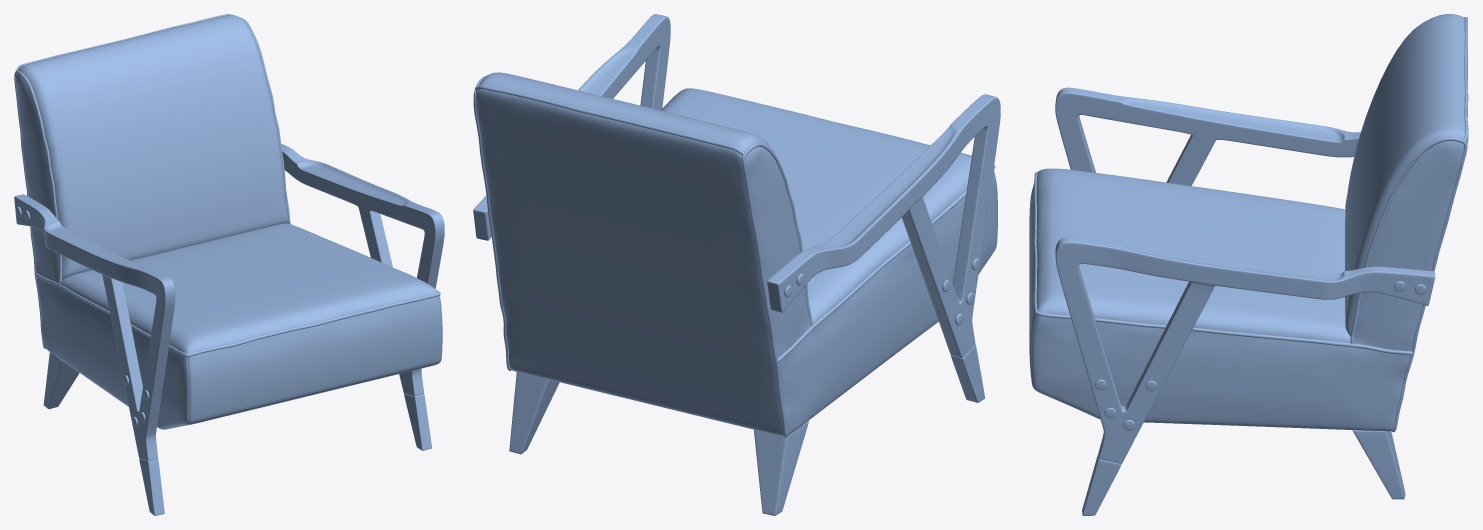
Rendered from The  Charles  Club  Chair.obj.
3 renders of one model, left to right at view 1: azimuth 30°, elevation 25°; view 2: azimuth 150°, elevation 25°; view 3: azimuth 270°, elevation 25°, orthographic. The views are drawn at different scales.
Visible parts, largest first — view 1: The__Charles__Club__Chair; view 2: The__Charles__Club__Chair; view 3: The__Charles__Club__Chair.
Boxes of the visible parts, left/top/right/bottom form: The__Charles__Club__Chair: left=14, top=14, right=444, bottom=515; The__Charles__Club__Chair: left=473, top=14, right=1000, bottom=515; The__Charles__Club__Chair: left=1029, top=14, right=1468, bottom=515.
Bounding box in the file's own units: 70.38 × 76.62 × 82.76.
